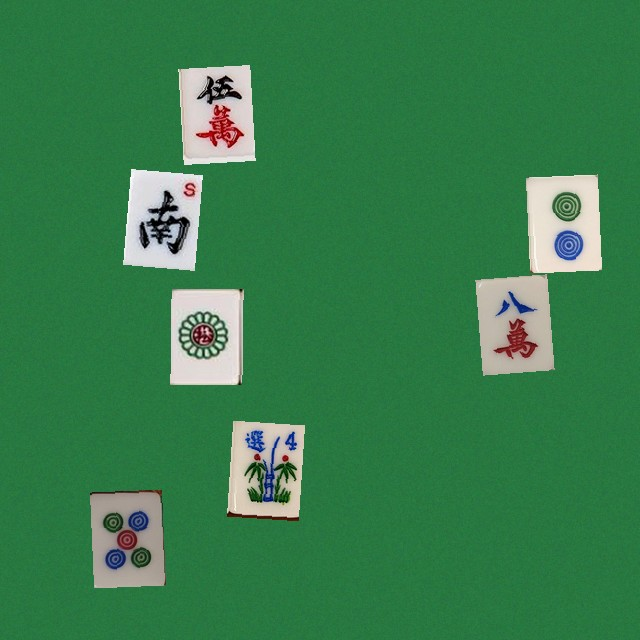tile: (123, 169, 195, 265), (525, 174, 597, 270), (475, 274, 547, 370), (170, 288, 242, 384), (226, 420, 298, 516), (89, 489, 161, 585), (178, 65, 250, 161)
